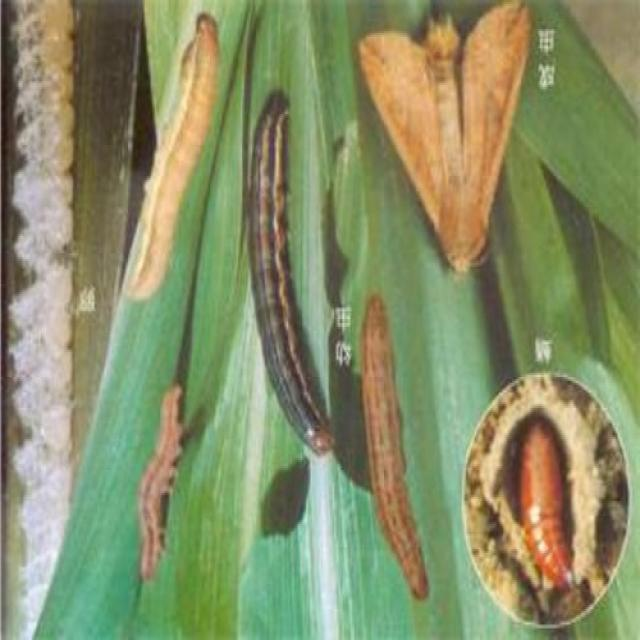army worm: (346, 1, 534, 285), (239, 89, 342, 470), (123, 10, 219, 313), (354, 294, 436, 609), (518, 416, 578, 599), (134, 382, 185, 591)
